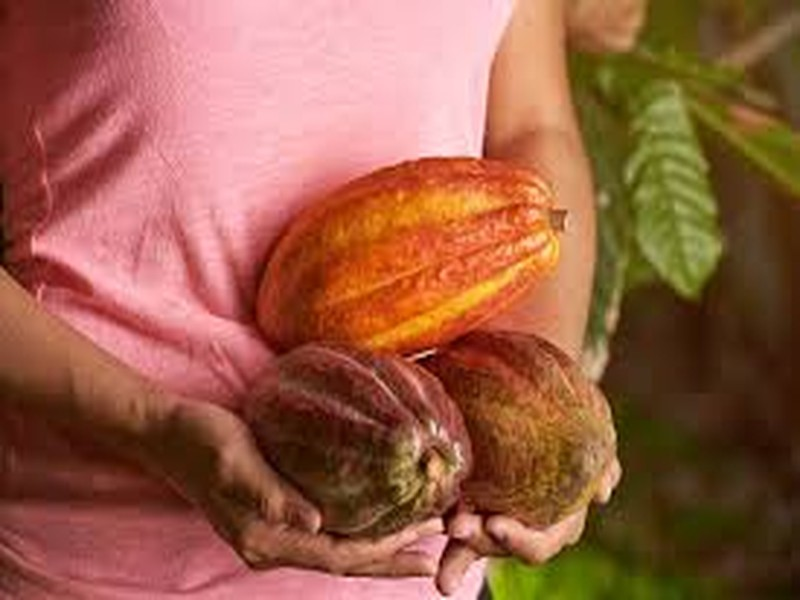Cacaopod: (253, 155, 571, 357)
